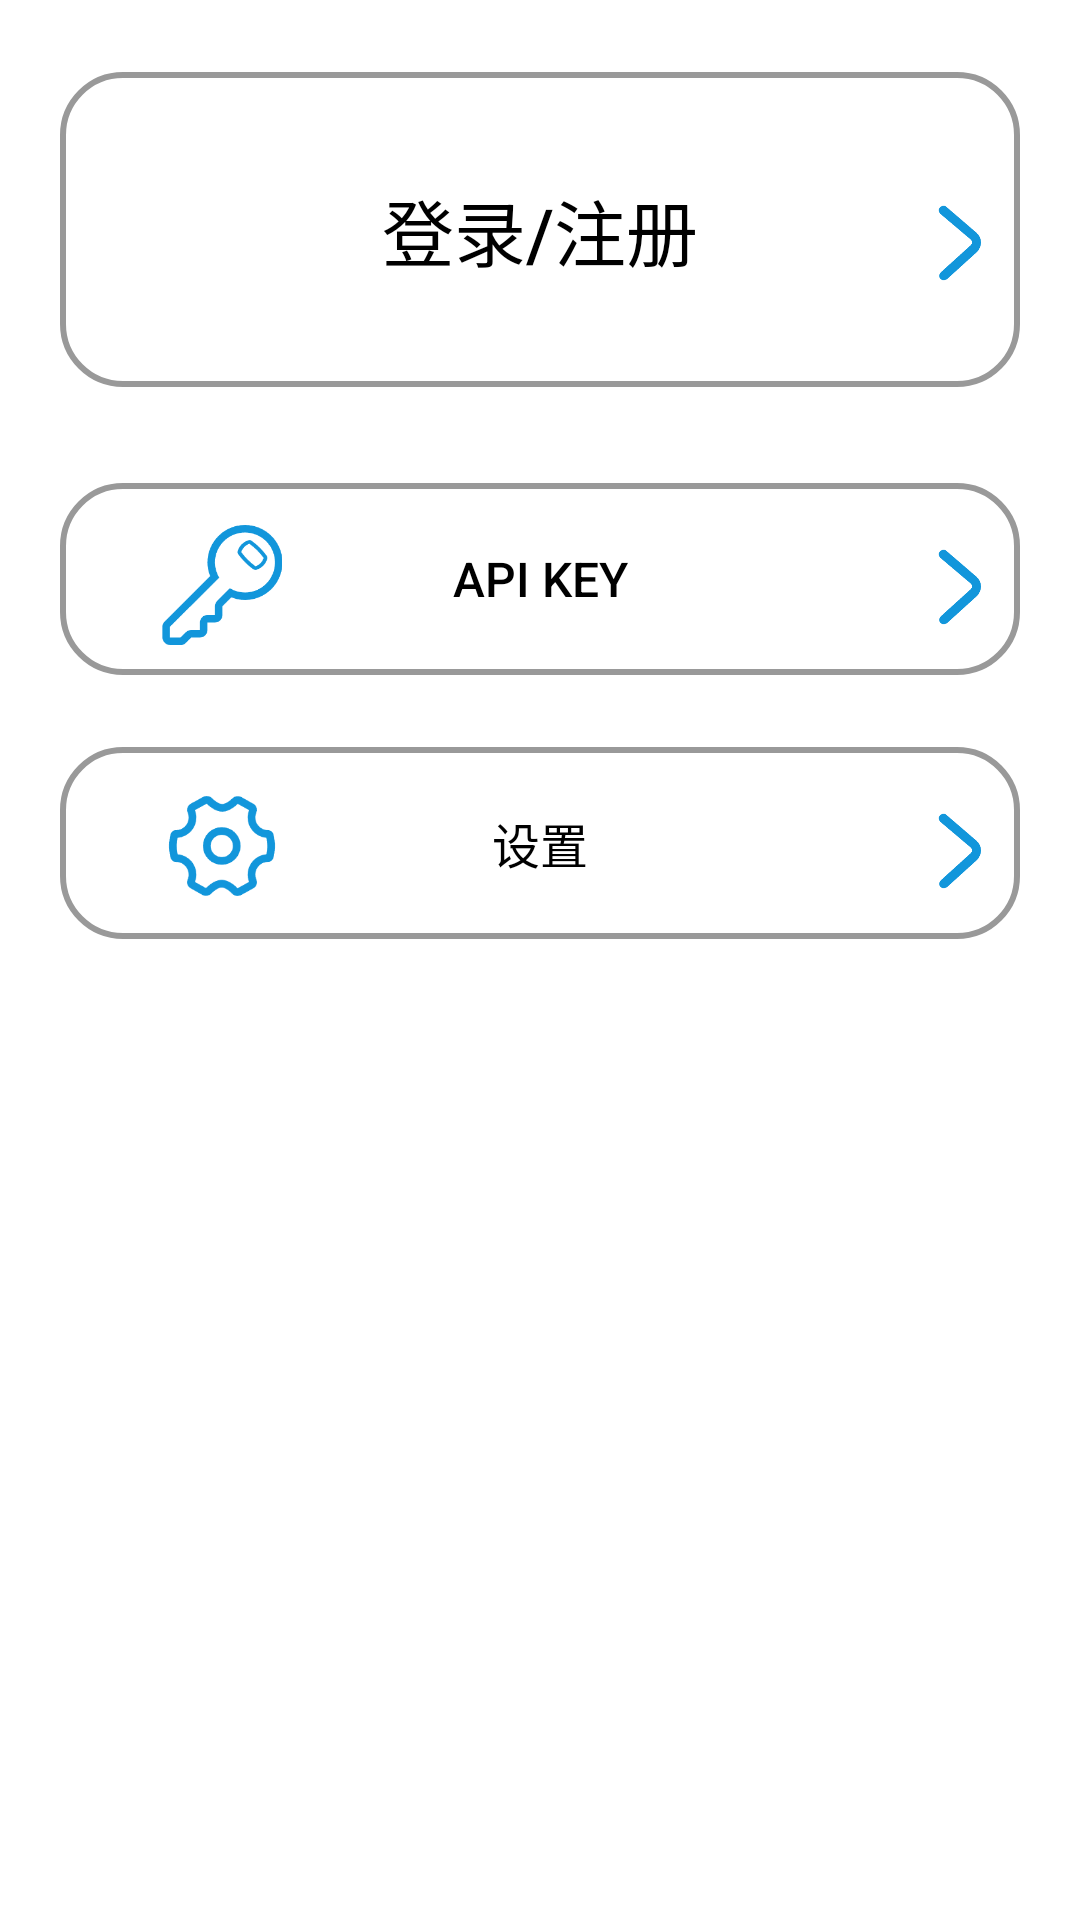

Locate icon controls on the screen. Image size 1080w x 1920h, boxes as (x1, y1, x2, y2).
right: (938, 205, 981, 280), (938, 549, 981, 624), (938, 813, 981, 888)
setting: (169, 796, 275, 896)
